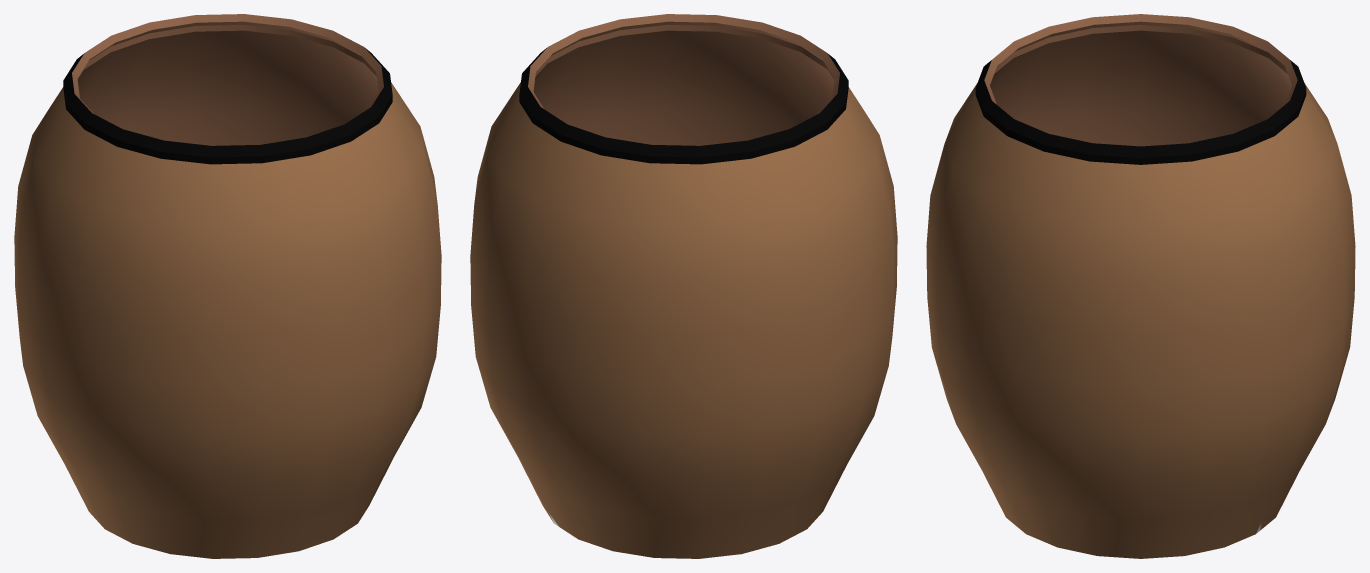
Rendered from P_Barrel_1.fbx.
3 renders of one model, left to right at view 1: azimuth 30°, elevation 25°; view 2: azimuth 150°, elevation 25°; view 3: azimuth 270°, elevation 25°, orthographic.
Visible parts, largest first — view 1: pCylinder1; view 2: pCylinder1; view 3: pCylinder1.
Part boxes in pixels (box(x1,y1,x2,y2)): pCylinder1: box(14, 14, 441, 558); pCylinder1: box(470, 14, 897, 558); pCylinder1: box(926, 14, 1355, 558).
Size of the model in its own units: 65 by 70 by 65.
